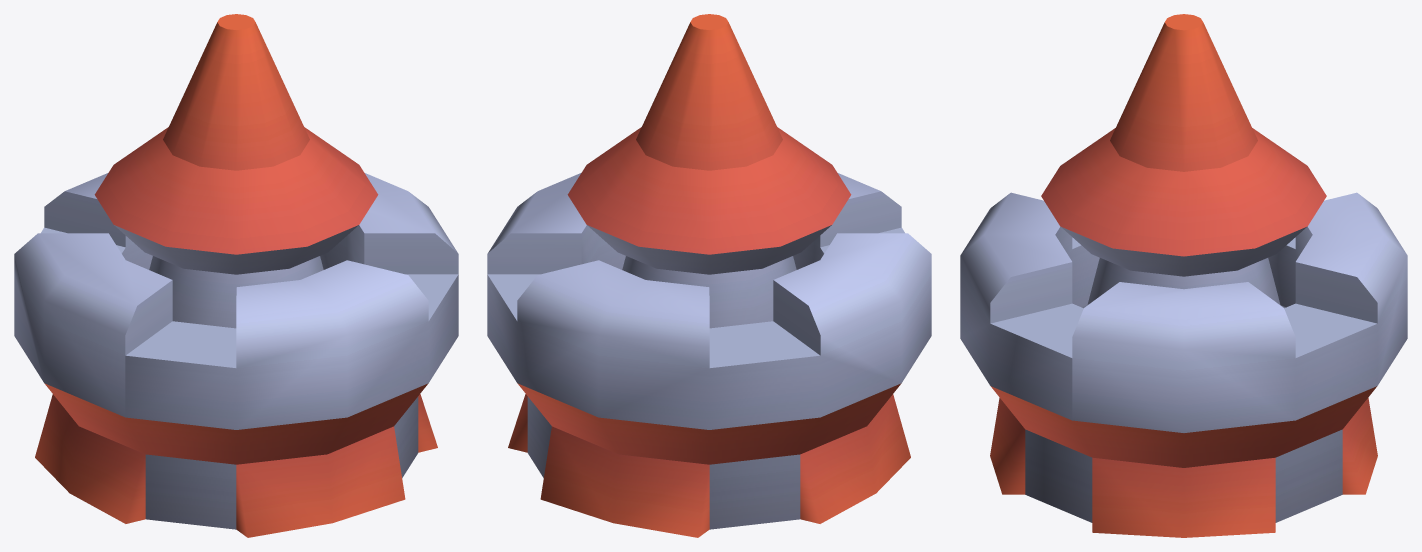
File: tower-round-roof-c.glb
3 renders of one model, left to right at view 1: azimuth 30°, elevation 25°; view 2: azimuth 150°, elevation 25°; view 3: azimuth 270°, elevation 25°, orthographic.
Parts seen in each view (by area): view 1: tower-round-roof-c; view 2: tower-round-roof-c; view 3: tower-round-roof-c.
Boxes of the visible parts, x1,y1,x2,y2 form: tower-round-roof-c: (14, 14, 458, 537); tower-round-roof-c: (487, 14, 931, 537); tower-round-roof-c: (960, 14, 1407, 537).
Size of the model in its own units: 0.976 by 1.04 by 0.976.
1 material, 1 textured.
